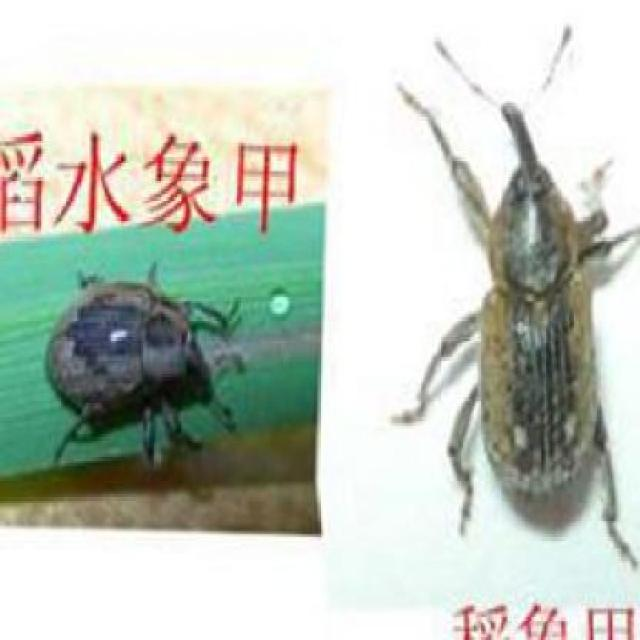rice-bug: (454, 94, 615, 512), (43, 273, 225, 447)
